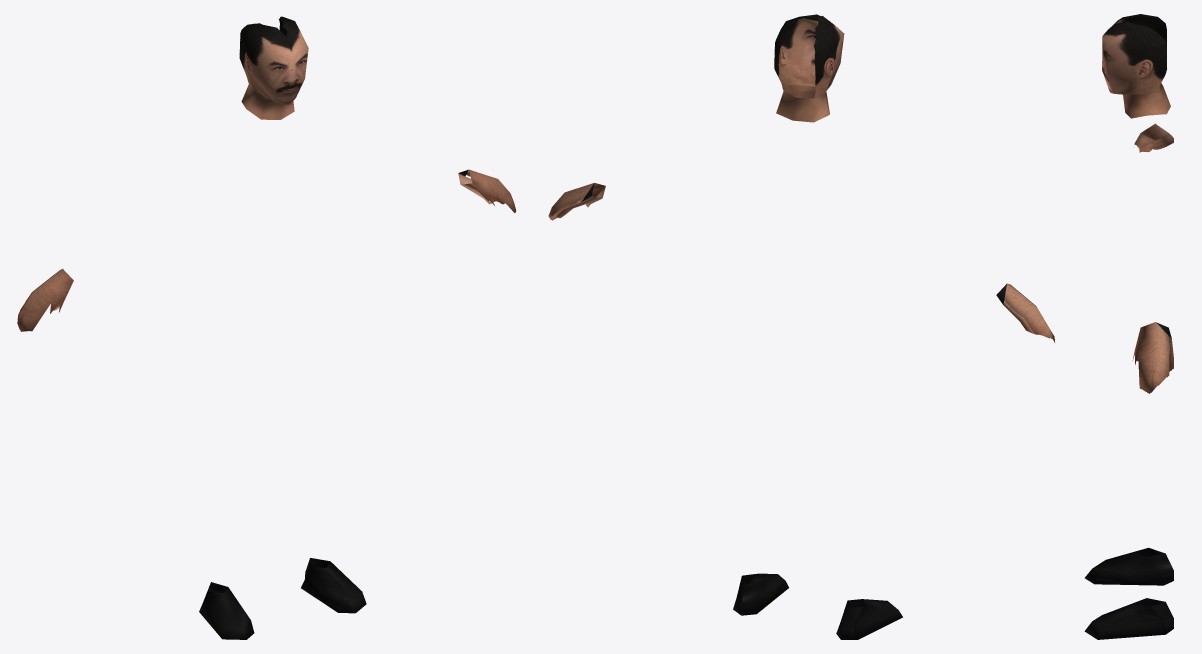
The model's file is Police.fbx.
3 views of the same model, side by side, from view 1: azimuth 30°, elevation 25°; view 2: azimuth 150°, elevation 25°; view 3: azimuth 270°, elevation 25° (orthographic).
Visible parts, largest first — view 1: HumanoidBase_Overlapping; view 2: HumanoidBase_Overlapping; view 3: HumanoidBase_Overlapping.
Part boxes in pixels (x1=…): HumanoidBase_Overlapping: x1=17, y1=16, x2=515, y2=639; HumanoidBase_Overlapping: x1=548, y1=14, x2=1054, y2=639; HumanoidBase_Overlapping: x1=1084, y1=14, x2=1173, y2=639.
Size of the model in its own units: 161 by 180 by 28.62.
1 material, 1 textured.
